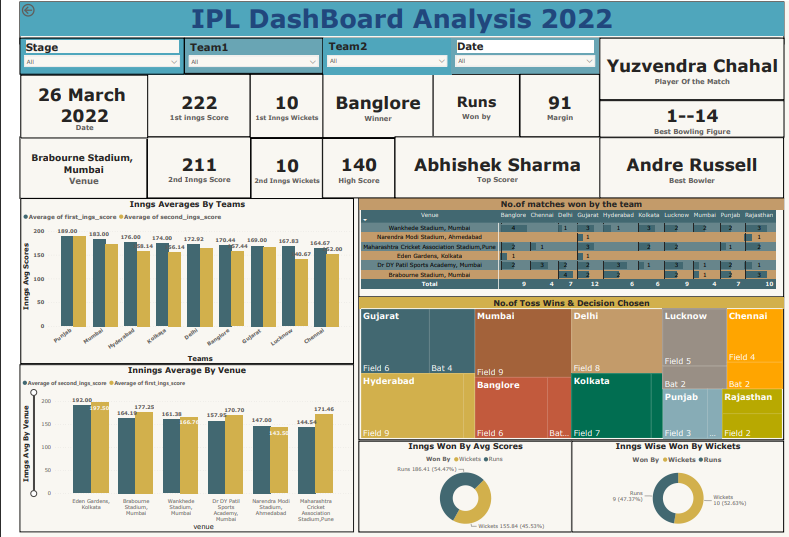

This screenshot's page, from the dashboard's own definition file:
{"tool":"powerbi","page":{"name":"Page 1","canvas":[1800,1250],"ordinal":0},"visuals":[{"type":"shape","title":"IPL DashBoard Analysis 2022","box":[0,0,1800.8,100],"z":0},{"type":"clusteredColumnChart","title":"Innings Average By Venue","fields":{"Category":["Book_ipl22_ver_33.venue"],"Y":["Book_ipl22_ver_33.second_ings_score","Book_ipl22_ver_33.first_ings_score"]},"box":[0,854.7,786.8,395.3],"z":1000},{"type":"pivotTable","title":"No.of matches won by the team","fields":{"Rows":["Book_ipl22_ver_33.venue"],"Values":["Book_ipl22_ver_33.venue"],"Columns":["Book_ipl22_ver_33.match_winner"]},"box":[798.4,463.2,1001.9,232.6],"z":2000},{"type":"card","title":"Won By","fields":{"Values":["Book_ipl22_ver_33.won_by"]},"box":[973.6,171.1,205.4,148.3],"z":3000},{"type":"card","fields":{"Values":["Book_ipl22_ver_33.match_winner"]},"box":[713.1,171.1,260.5,150.2],"z":4000},{"type":"card","fields":{"Values":["Book_ipl22_ver_33.player_of_the_match"]},"box":[1365.3,85.6,435.5,146.4],"z":5000},{"type":"card","fields":{"Values":["Book_ipl22_ver_33.second_ings_score"]},"box":[300.4,317.8,244.2,145.3],"z":6000},{"type":"card","fields":{"Values":["Book_ipl22_ver_33.first_ings_score"]},"box":[300.4,171.1,243.4,148.3],"z":7000},{"type":"card","fields":{"Values":["Book_ipl22_ver_33.venue"]},"box":[0,317.6,300.4,146.4],"z":8000},{"type":"slicer","fields":{"Values":["Book_ipl22_ver_33.stage"]},"box":[0,85.6,387.9,85.6],"z":9000},{"type":"slicer","fields":{"Values":["Book_ipl22_ver_33.team1"]},"box":[387.9,85.6,327.1,83.7],"z":10000},{"type":"slicer","fields":{"Values":["Book_ipl22_ver_33.team2"]},"box":[715,85.6,302.3,85.6],"z":11000},{"type":"card","fields":{"Values":["Book_ipl22_ver_33.highscore"]},"box":[713.2,321.7,170.5,141.5],"z":12000},{"type":"card","fields":{"Values":["Book_ipl22_ver_33.best_bowling_figure"]},"box":[1365.3,232,435.5,87.5],"z":13000},{"type":"treemap","title":"No.of Toss Wins & Decision Chosen","fields":{"Group":["Book_ipl22_ver_33.toss_winner"],"Values":["Book_ipl22_ver_33.toss_winner"],"Details":["Book_ipl22_ver_33.toss_decision"]},"box":[798.4,695.7,1001.9,337.2],"z":14000},{"type":"card","fields":{"Values":["Book_ipl22_ver_33.top_scorer"]},"box":[883.7,317.8,482.6,145.3],"z":15000},{"type":"card","fields":{"Values":["Book_ipl22_ver_33.date"]},"box":[1.9,172.5,300.4,149.2],"z":16000},{"type":"slicer","fields":{"Values":["Book_ipl22_ver_33.date"]},"box":[1017.3,85.6,348,83.7],"z":17000},{"type":"actionButton","box":[0,0,100,40],"z":18000},{"type":"card","fields":{"Values":["Book_ipl22_ver_33.best_bowling"]},"box":[1366.3,319.8,434.1,143.4],"z":19000},{"type":"card","fields":{"Values":["Book_ipl22_ver_33.margin"]},"box":[1179,171.1,188.3,148.3],"z":20000},{"type":"card","fields":{"Values":["Book_ipl22_ver_33.first_ings_wkts"]},"box":[543,171,172,150],"z":21000},{"type":"card","fields":{"Values":["Book_ipl22_ver_33.second_ings_wkts"]},"box":[543.8,321.4,169.2,142.6],"z":22000},{"type":"clusteredColumnChart","title":"Inngs Averages By Teams","fields":{"Category":["Book_ipl22_ver_33.team1"],"Y":["Book_ipl22_ver_33.first_ings_score","Book_ipl22_ver_33.second_ings_score"]},"box":[1.9,465.1,784.9,389.5],"z":23000},{"type":"donutChart","title":"Inngs Won By Avg Scores","fields":{"Y":["Book_ipl22_ver_33.first_ings_score"],"Category":["Book_ipl22_ver_33.won_by"]},"box":[798.4,1034.9,501.9,215.1],"z":24000},{"type":"donutChart","title":"Inngs Wise Won By Wickets","fields":{"Y":["Book_ipl22_ver_33.first_ings_wkts"],"Category":["Book_ipl22_ver_33.won_by"]},"box":[1300.4,1034.9,500,215.1],"z":25000}]}

Visuals, with their boxes in screenshot pixels (x1, y1, x2, y2), scaled from the page's 1800x1250 canvas onto the 789x537 screenshot:
"IPL DashBoard Analysis 2022" shape: 0/0/788/43
"Innings Average By Venue" clusteredColumnChart: 0/367/345/536
"No.of matches won by the team" pivotTable: 350/199/788/299
"Won By" card: 427/74/517/137
card - Book_ipl22_ver_33.match_winner: 313/74/427/138
card - Book_ipl22_ver_33.player_of_the_match: 598/37/788/100
card - Book_ipl22_ver_33.second_ings_score: 132/137/239/199
card - Book_ipl22_ver_33.first_ings_score: 132/74/238/137
card - Book_ipl22_ver_33.venue: 0/136/132/199
slicer - Book_ipl22_ver_33.stage: 0/37/170/74
slicer - Book_ipl22_ver_33.team1: 170/37/313/73
slicer - Book_ipl22_ver_33.team2: 313/37/446/74
card - Book_ipl22_ver_33.highscore: 313/138/387/199
card - Book_ipl22_ver_33.best_bowling_figure: 598/100/788/137
"No.of Toss Wins & Decision Chosen" treemap: 350/299/788/444
card - Book_ipl22_ver_33.top_scorer: 387/137/599/199
card - Book_ipl22_ver_33.date: 1/74/133/138
slicer - Book_ipl22_ver_33.date: 446/37/598/73
actionButton: 0/0/44/17
card - Book_ipl22_ver_33.best_bowling: 599/137/788/199
card - Book_ipl22_ver_33.margin: 517/74/599/137
card - Book_ipl22_ver_33.first_ings_wkts: 238/73/313/138
card - Book_ipl22_ver_33.second_ings_wkts: 238/138/313/199
"Inngs Averages By Teams" clusteredColumnChart: 1/200/345/367
"Inngs Won By Avg Scores" donutChart: 350/445/570/536
"Inngs Wise Won By Wickets" donutChart: 570/445/788/536
